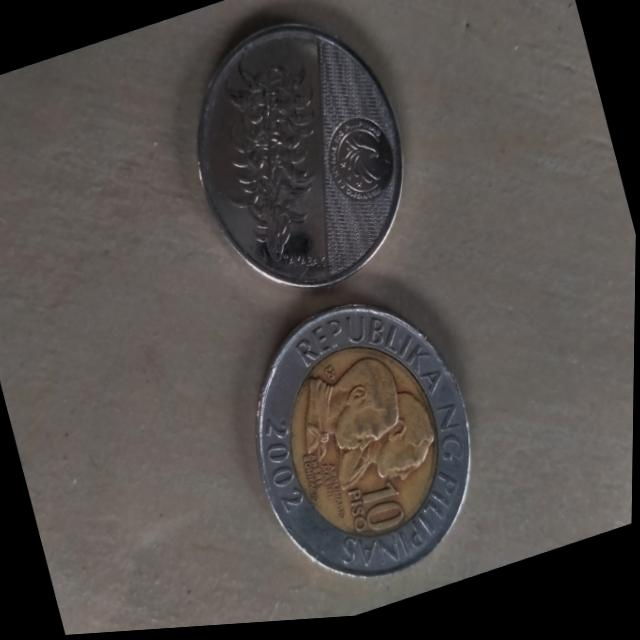10_Old_Front: (269, 342, 454, 573)
5_New_Back: (201, 26, 400, 295)
